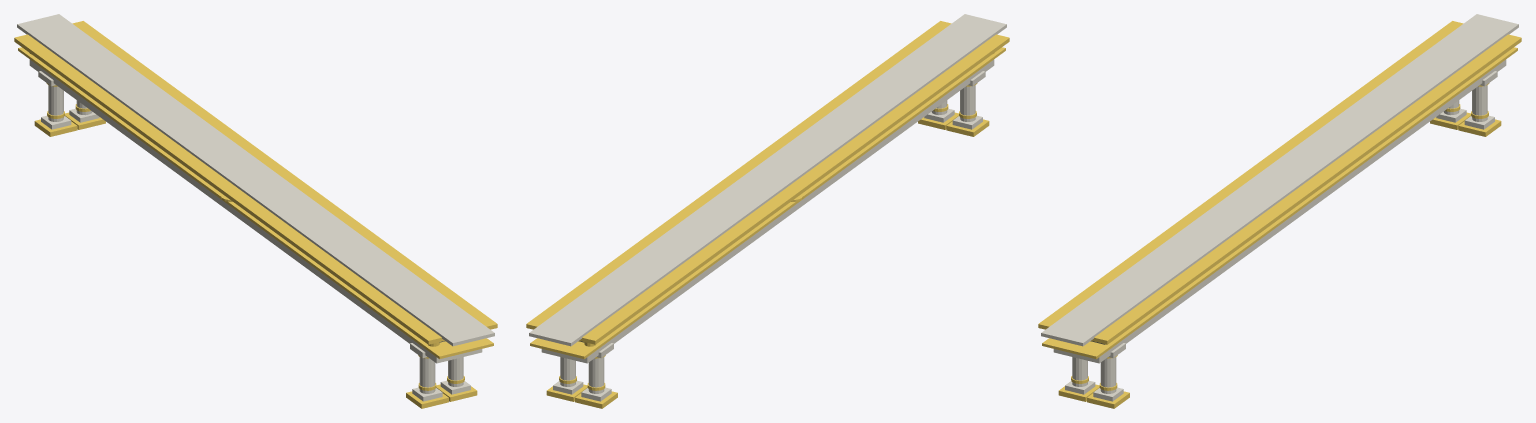
The model's file is capital-finish-arch.glb.
3 renders of one model, left to right at view 1: azimuth 30°, elevation 25°; view 2: azimuth 150°, elevation 25°; view 3: azimuth 330°, elevation 25°, orthographic.
Parts seen in each view (by area): view 1: Capital finish arch · Ivory marble, Capital finish arch · Brushed gold; view 2: Capital finish arch · Ivory marble, Capital finish arch · Brushed gold; view 3: Capital finish arch · Ivory marble, Capital finish arch · Brushed gold.
Boxes of the visible parts, left/top/right/bottom form: Capital finish arch · Ivory marble: left=17, top=14, right=494, bottom=401; Capital finish arch · Brushed gold: left=14, top=21, right=497, bottom=408; Capital finish arch · Ivory marble: left=529, top=14, right=1006, bottom=401; Capital finish arch · Brushed gold: left=526, top=21, right=1009, bottom=408; Capital finish arch · Ivory marble: left=1041, top=14, right=1518, bottom=401; Capital finish arch · Brushed gold: left=1038, top=21, right=1521, bottom=408.
Size of the model in its own units: 5.6 by 6.32 by 61.
